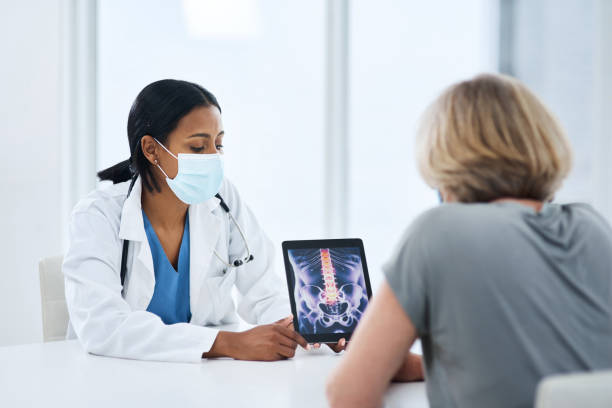with mask: (126, 89, 232, 206)
